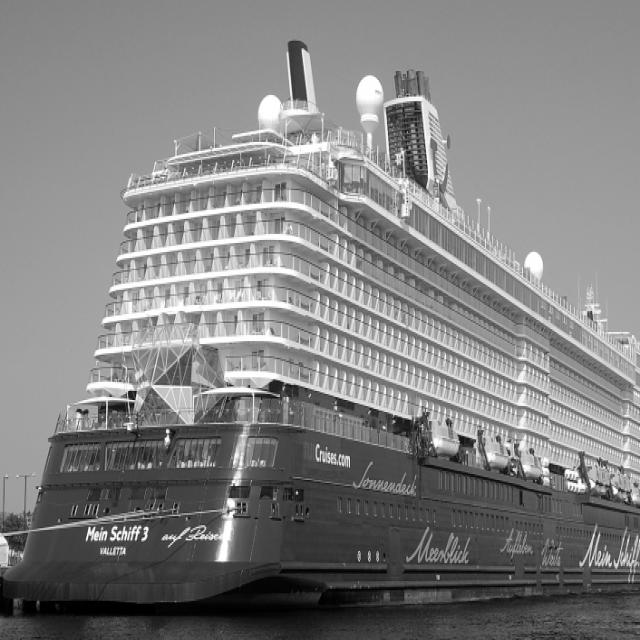cruises: (3, 37, 640, 621)
